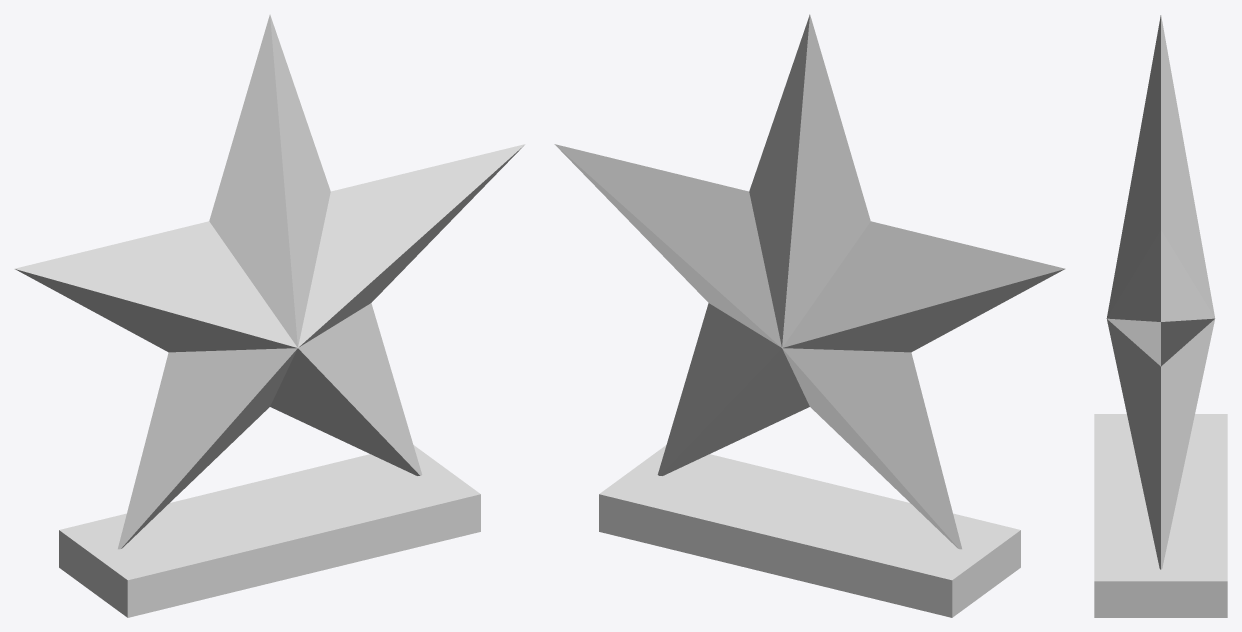
The model's file is Event-Star-Standing.fbx.
The picture shows the model from 3 angles, left to right: view 1: azimuth 30°, elevation 25°; view 2: azimuth 150°, elevation 25°; view 3: azimuth 270°, elevation 25°; orthographic projection. The views are drawn at different scales.
Parts seen in each view (by area): view 1: Event-Star-Standing; view 2: Event-Star-Standing; view 3: Event-Star-Standing.
Part boxes in pixels (x1=…): Event-Star-Standing: x1=14, y1=14, x2=525, y2=617; Event-Star-Standing: x1=554, y1=14, x2=1065, y2=617; Event-Star-Standing: x1=1094, y1=15, x2=1227, y2=617.
Bounding box in the file's own units: 473 × 473 × 110.
1 material, 1 textured.
